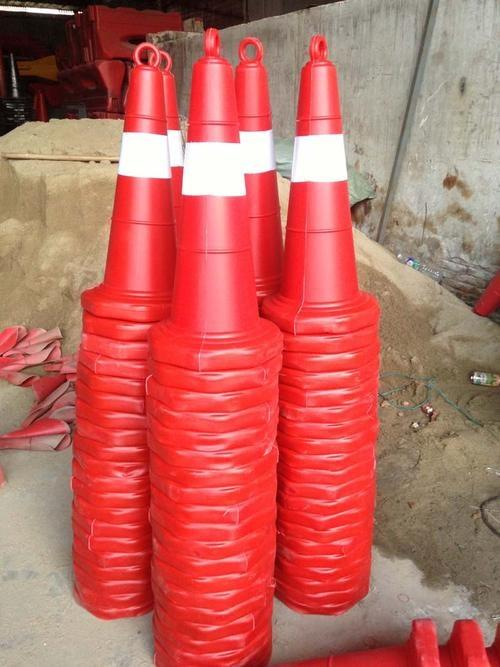cone_barrel: (165, 28, 264, 341), (271, 36, 373, 321), (91, 62, 177, 302), (233, 39, 282, 291)
